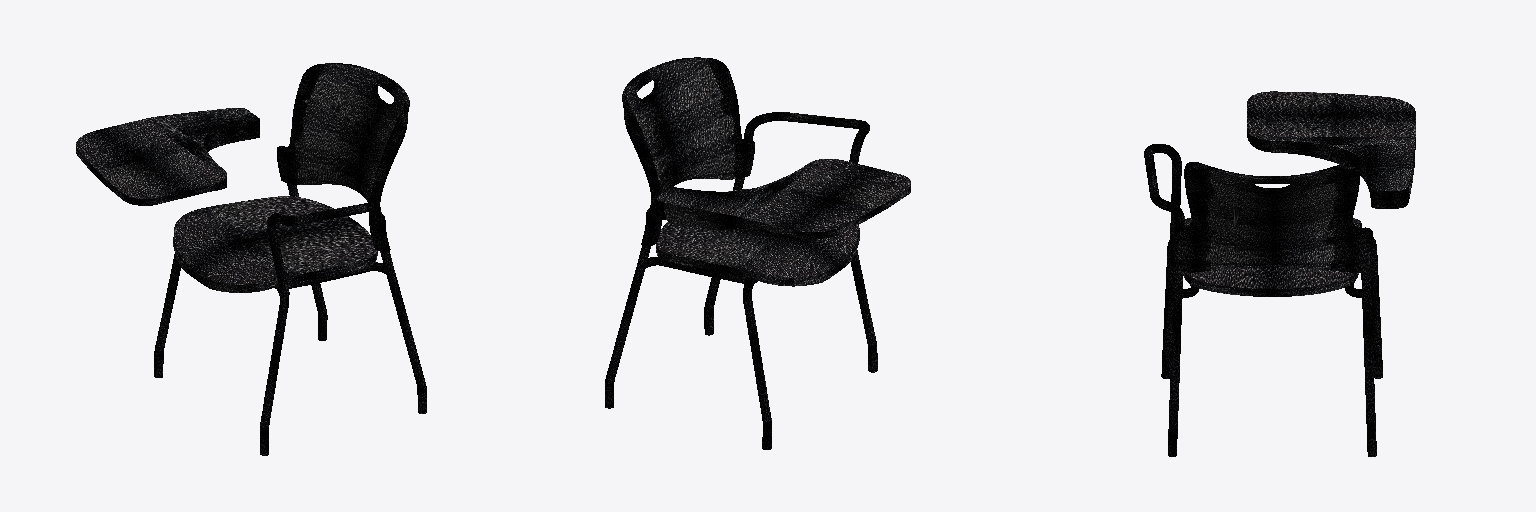
The picture shows the model from 3 angles: view 1: azimuth 30°, elevation 25°; view 2: azimuth 150°, elevation 25°; view 3: azimuth 270°, elevation 25°; orthographic projection.
Parts seen in each view (by area): view 1: Stacking_Chair:Stacking_Chair_Arm_Seat_Left_Table__mirror_for_ri; view 2: Stacking_Chair:Stacking_Chair_Arm_Seat_Left_Table__mirror_for_ri; view 3: Stacking_Chair:Stacking_Chair_Arm_Seat_Left_Table__mirror_for_ri.
Boxes of the visible parts, x1=… form: Stacking_Chair:Stacking_Chair_Arm_Seat_Left_Table__mirror_for_ri: x1=76, y1=63, x2=426, y2=455; Stacking_Chair:Stacking_Chair_Arm_Seat_Left_Table__mirror_for_ri: x1=605, y1=57, x2=910, y2=449; Stacking_Chair:Stacking_Chair_Arm_Seat_Left_Table__mirror_for_ri: x1=1144, y1=91, x2=1415, y2=456.
Bounding box in the file's own units: 31.52 × 32.01 × 27.27.
Materials: 1 (1 with a texture image).